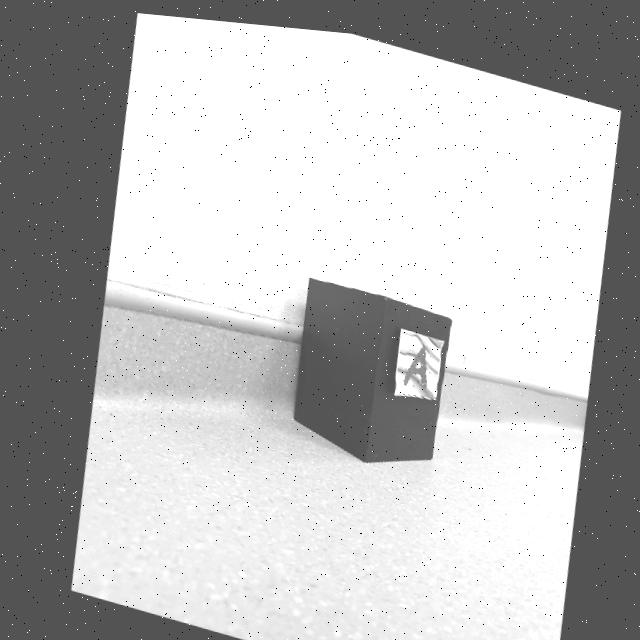A: (398, 339, 421, 380)
